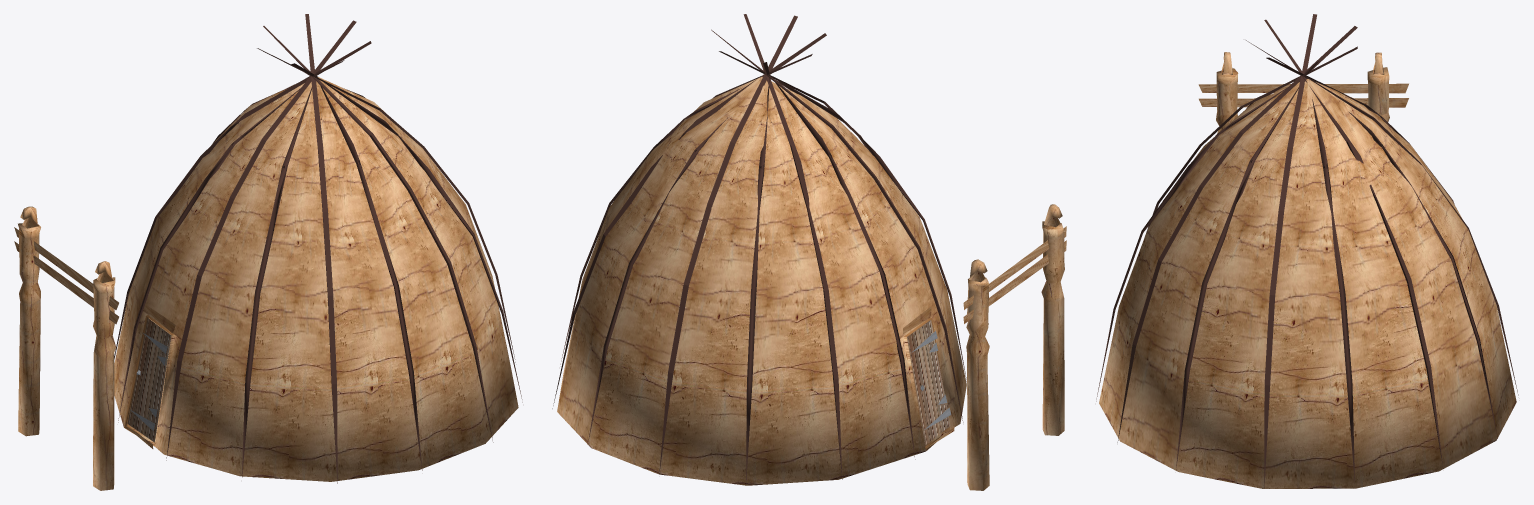
The model's file is uraha.glb.
3 renders of one model, left to right at view 1: azimuth 30°, elevation 25°; view 2: azimuth 150°, elevation 25°; view 3: azimuth 270°, elevation 25°, orthographic.
Visible parts, largest first — view 1: Ураьа; view 2: Ураьа; view 3: Ураьа.
Boxes of the visible parts, x1,y1,x2,y2 form: Ураьа: (14,14,522,490); Ураьа: (552,14,1066,490); Ураьа: (1096,14,1518,488).
Size of the model in its own units: 8.25 by 6.53 by 6.8.
4 materials, 4 textured.
